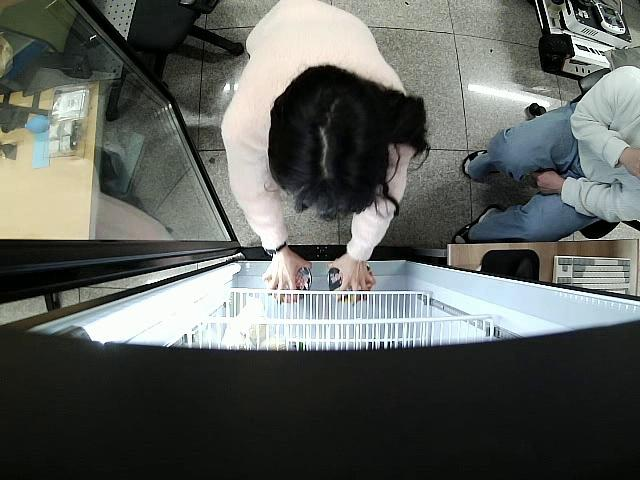00_hand: (258, 252, 309, 301), (329, 256, 372, 297), (529, 169, 561, 196)
07_buldak_L: (330, 264, 369, 304), (280, 271, 314, 304)
